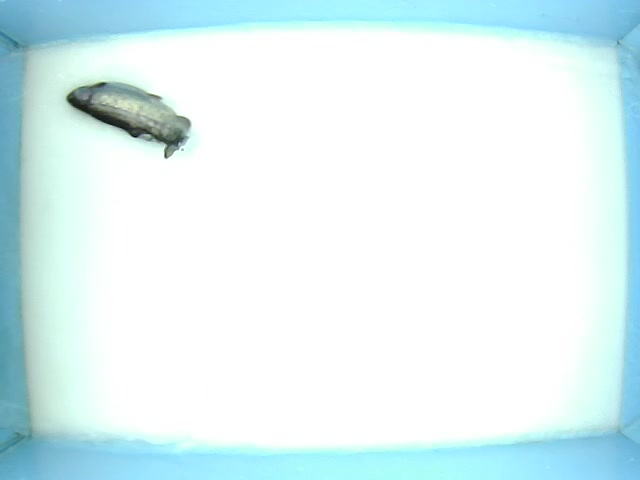fish: (63, 80, 193, 158)
